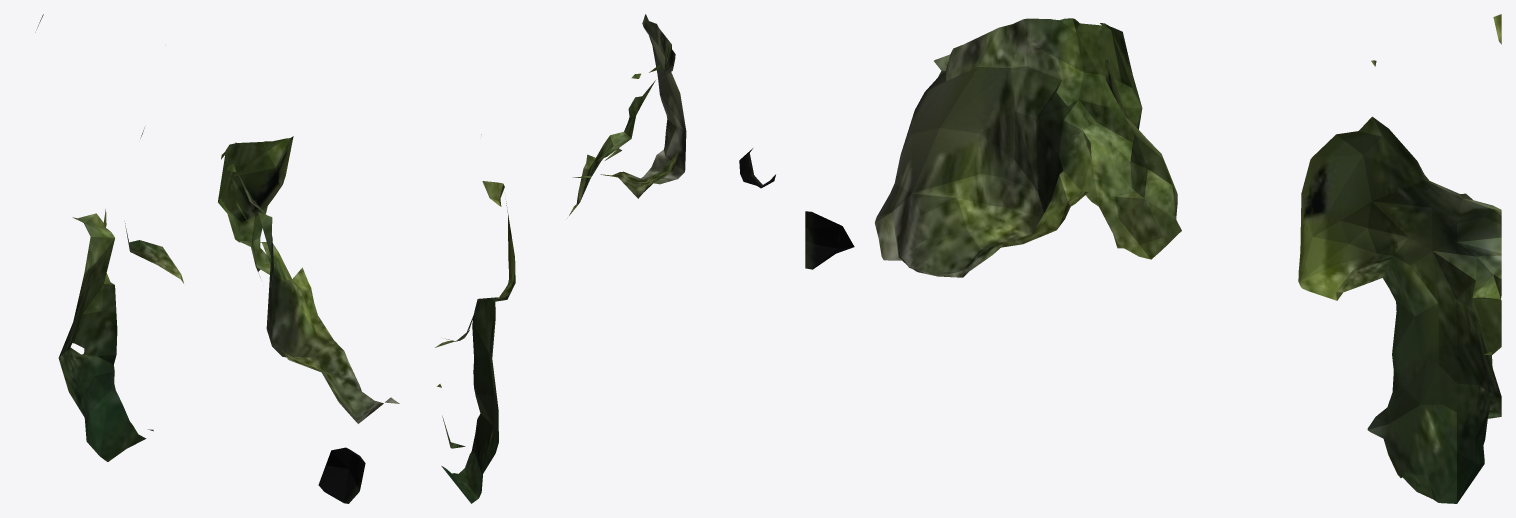
3 views of the same model, side by side, from view 1: azimuth 30°, elevation 25°; view 2: azimuth 150°, elevation 25°; view 3: azimuth 270°, elevation 25° (orthographic). The views are drawn at different scales.
Bounding box in the file's own units: 2.22 × 8.55 × 11.8.
Materials: 1 (1 with a texture image).
